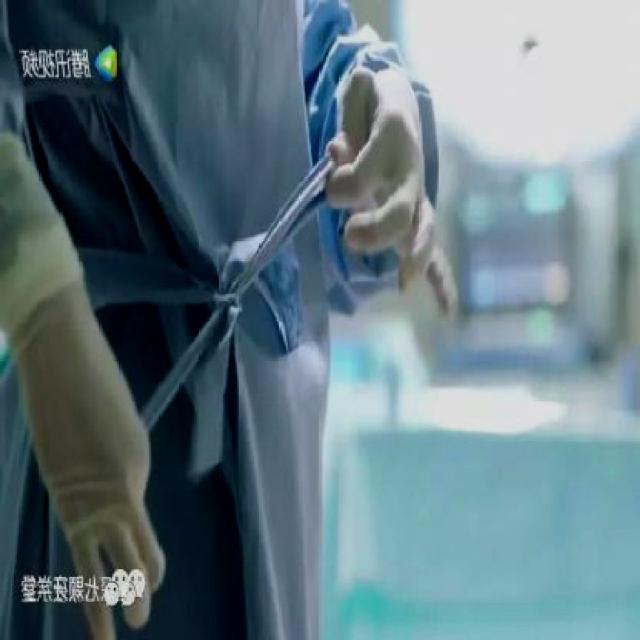hand_glove: (34, 352, 166, 639), (325, 70, 458, 330)
